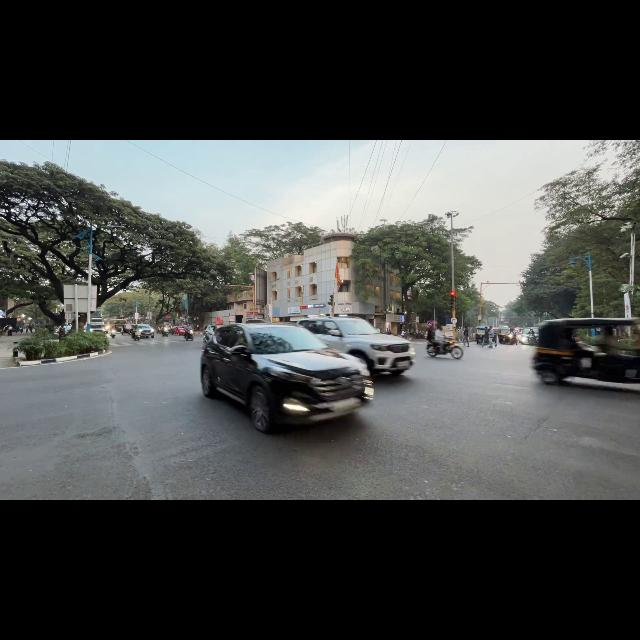car: (201, 324, 373, 432), (298, 317, 415, 374), (519, 327, 538, 344), (134, 324, 155, 338), (203, 325, 215, 344), (172, 327, 184, 335)
motorcycle: (427, 340, 463, 359), (505, 334, 517, 344), (131, 329, 141, 341), (527, 334, 537, 345), (184, 330, 193, 340), (110, 328, 116, 338), (161, 328, 168, 336)
